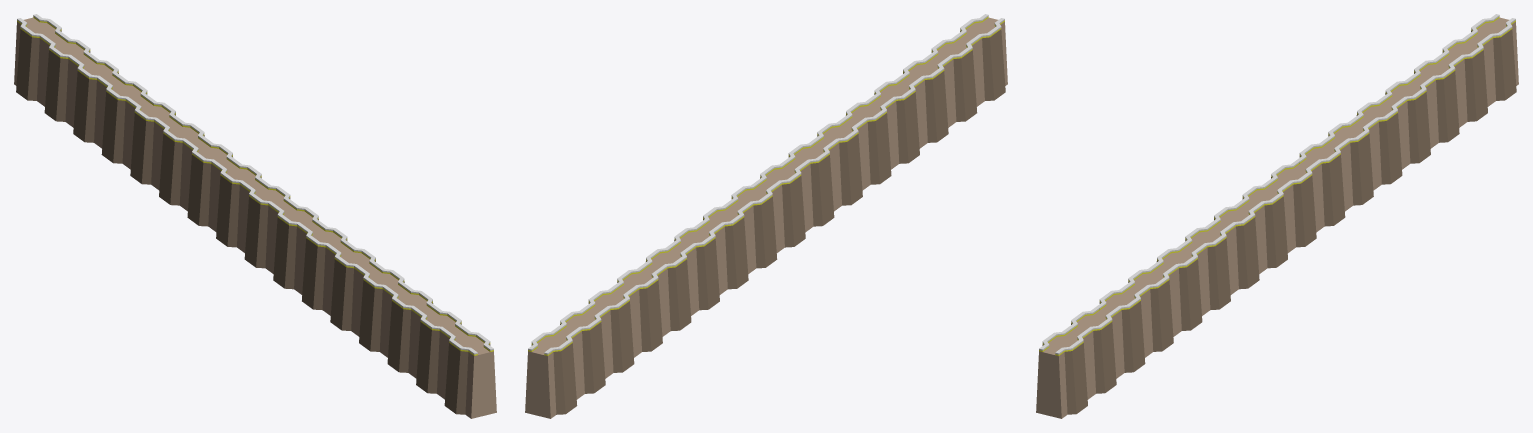
Rendered from DustCityRempart.fbx.
3 views of the same model, side by side, from view 1: azimuth 30°, elevation 25°; view 2: azimuth 150°, elevation 25°; view 3: azimuth 330°, elevation 25° (orthographic).
Visible parts, largest first — view 1: DustCityRempart_FullRempart; view 2: DustCityRempart_FullRempart; view 3: DustCityRempart_FullRempart.
Part boxes in pixels (x1=…): DustCityRempart_FullRempart: x1=14, y1=14, x2=496, y2=418; DustCityRempart_FullRempart: x1=525, y1=14, x2=1007, y2=418; DustCityRempart_FullRempart: x1=1036, y1=14, x2=1518, y2=418.
Size of the model in its own units: 97.31 by 156 by 2000.
